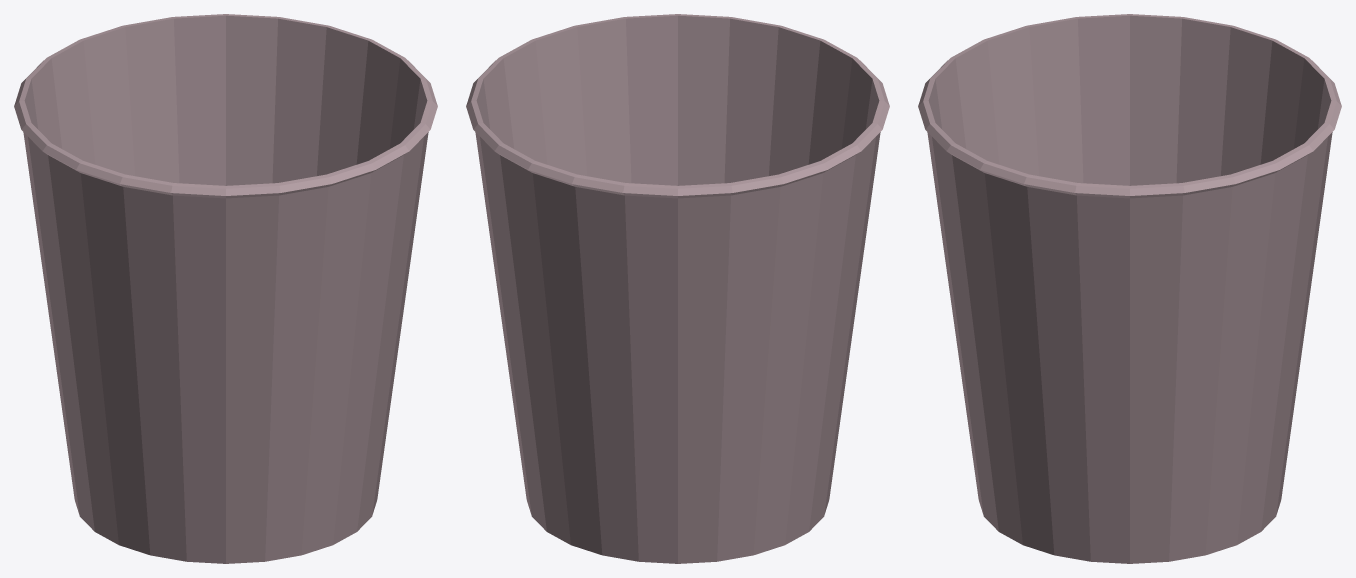
Rendered from Balde de lixo.fbx.
3 renders of one model, left to right at view 1: azimuth 30°, elevation 25°; view 2: azimuth 150°, elevation 25°; view 3: azimuth 270°, elevation 25°, orthographic.
Parts seen in each view (by area): view 1: Balde de lixo; view 2: Balde de lixo; view 3: Balde de lixo.
Boxes of the visible parts, x1,y1,x2,y2 form: Balde de lixo: (14,14,437,563); Balde de lixo: (466,14,889,563); Balde de lixo: (918,14,1341,563).
Bounding box in the file's own units: 48.04 × 49.93 × 48.04.
